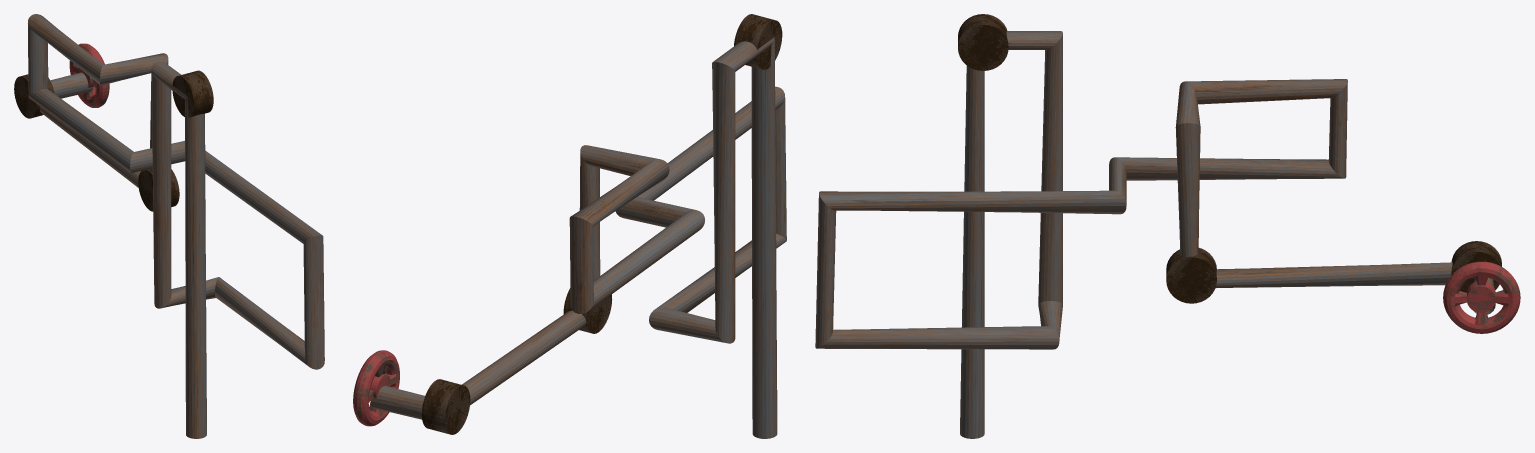
File: Tubulacao2.fbx
3 renders of one model, left to right at view 1: azimuth 30°, elevation 25°; view 2: azimuth 150°, elevation 25°; view 3: azimuth 270°, elevation 25°, orthographic. The views are drawn at different scales.
Parts seen in each view (by area): view 1: Cube, Cylinder.002, Torus, Cylinder.001, Cylinder; view 2: Cube, Torus, Cylinder.001, Cylinder.002, Cylinder; view 3: Cube, Torus, Cylinder.002, Cylinder, Cylinder.001.
Part boxes in pixels (x1,y1,x2,y2): Cube: [28, 14, 324, 438]; Cylinder.002: [172, 70, 213, 117]; Torus: [69, 43, 109, 107]; Cylinder.001: [14, 74, 54, 118]; Cylinder: [138, 169, 179, 211]; Cube: [370, 37, 786, 438]; Torus: [353, 350, 399, 426]; Cylinder.001: [421, 379, 470, 434]; Cylinder.002: [734, 14, 782, 69]; Cylinder: [563, 288, 612, 333]; Cube: [815, 31, 1495, 438]; Torus: [1443, 261, 1520, 333]; Cylinder.002: [958, 14, 1008, 70]; Cylinder: [1166, 248, 1216, 303]; Cylinder.001: [1451, 241, 1501, 292].
Bounding box in the file's own units: 237 × 627 × 965.
5 materials, 5 textured.
